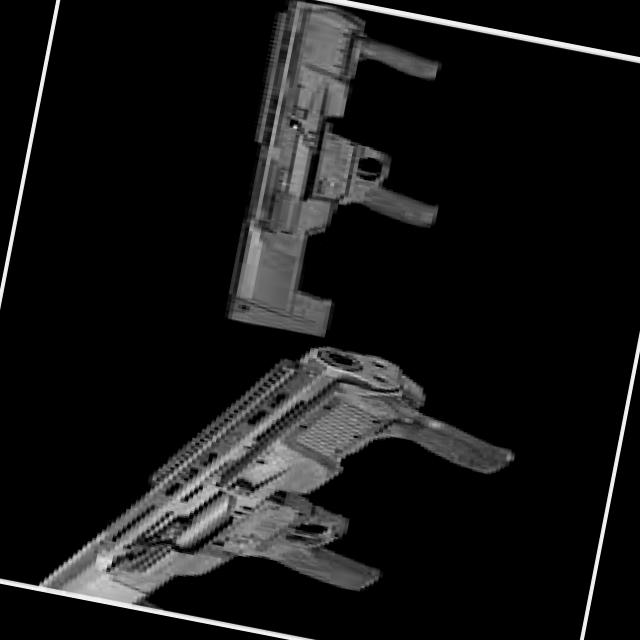long weapon: (16, 339, 450, 616), (211, 0, 468, 347)
